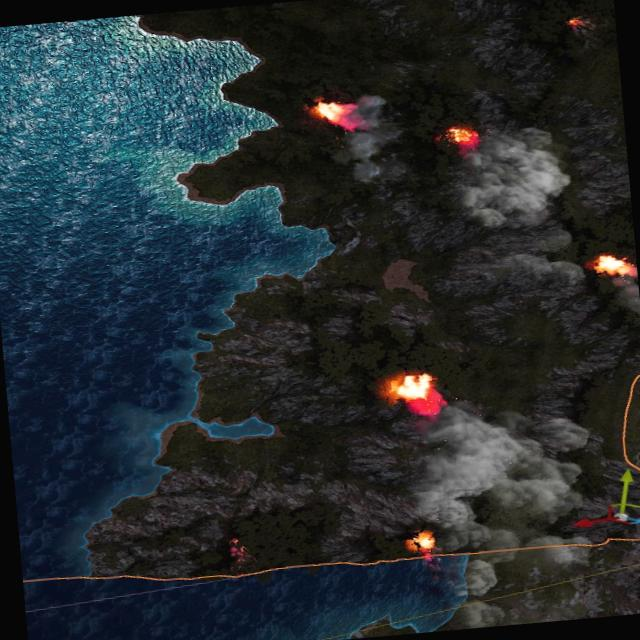fire: (307, 96, 358, 132), (386, 372, 439, 402), (592, 252, 634, 278), (442, 124, 480, 150), (223, 540, 252, 570), (410, 530, 434, 552), (564, 15, 586, 28)
smoke: (402, 380, 612, 631), (449, 122, 576, 238), (340, 91, 408, 186)
